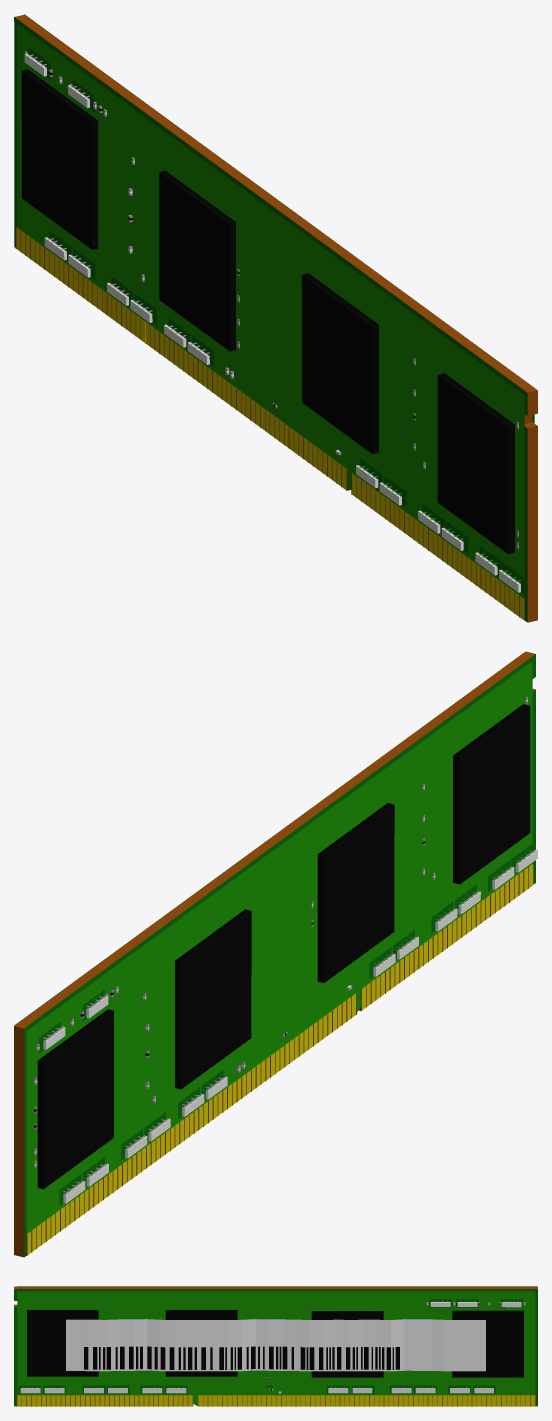
Rendered from ram.glb.
The picture shows the model from 3 angles, top to bottom: view 1: azimuth 30°, elevation 25°; view 2: azimuth 150°, elevation 25°; view 3: azimuth 270°, elevation 25°; orthographic projection. The views are drawn at different scales.
Visible parts, largest first — view 1: c025700, c000000, c4c1000, cccaf00, c002b00, cffffff, c636363; view 2: c025700, c000000, c4c1000, cccaf00, c002b00, cffffff, c636363; view 3: c025700, cffffff, c000000, cccaf00, c002b00, c4c1000, c636363.
Part boxes in pixels (x1,y1,x2,y2): c025700: (17, 24, 534, 598); c000000: (21, 69, 514, 554); c4c1000: (15, 14, 537, 622); cccaf00: (16, 227, 524, 620); c002b00: (14, 14, 532, 622); cffffff: (24, 53, 520, 592); c636363: (24, 51, 518, 549); c025700: (26, 661, 534, 1233); c000000: (34, 704, 530, 1189); c4c1000: (14, 651, 535, 1257); cccaf00: (27, 864, 533, 1254); c002b00: (14, 653, 535, 1256); cffffff: (34, 699, 537, 1203); c636363: (34, 696, 527, 1193); c025700: (17, 1291, 535, 1405); cffffff: (20, 1302, 525, 1393); c000000: (27, 1303, 523, 1390); cccaf00: (17, 1395, 535, 1406); c002b00: (14, 1286, 537, 1406); c4c1000: (14, 1286, 537, 1406); c636363: (23, 1301, 525, 1393).
Bounding box in the file's own units: 5.54 × 47.53 × 192.
